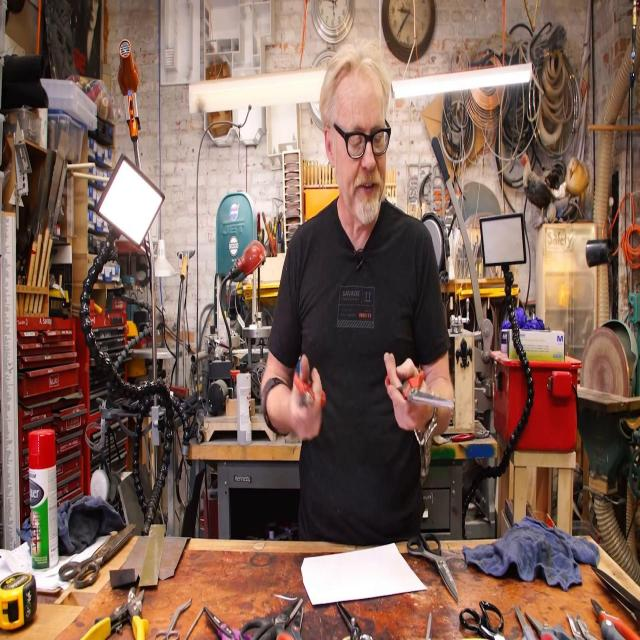scissor: (58, 523, 136, 588), (408, 533, 458, 601), (385, 368, 454, 410), (239, 598, 303, 640), (592, 566, 640, 616), (590, 597, 640, 640), (460, 601, 504, 640), (204, 607, 249, 640), (524, 611, 570, 640), (337, 601, 370, 640), (278, 605, 304, 640), (515, 604, 535, 640)
